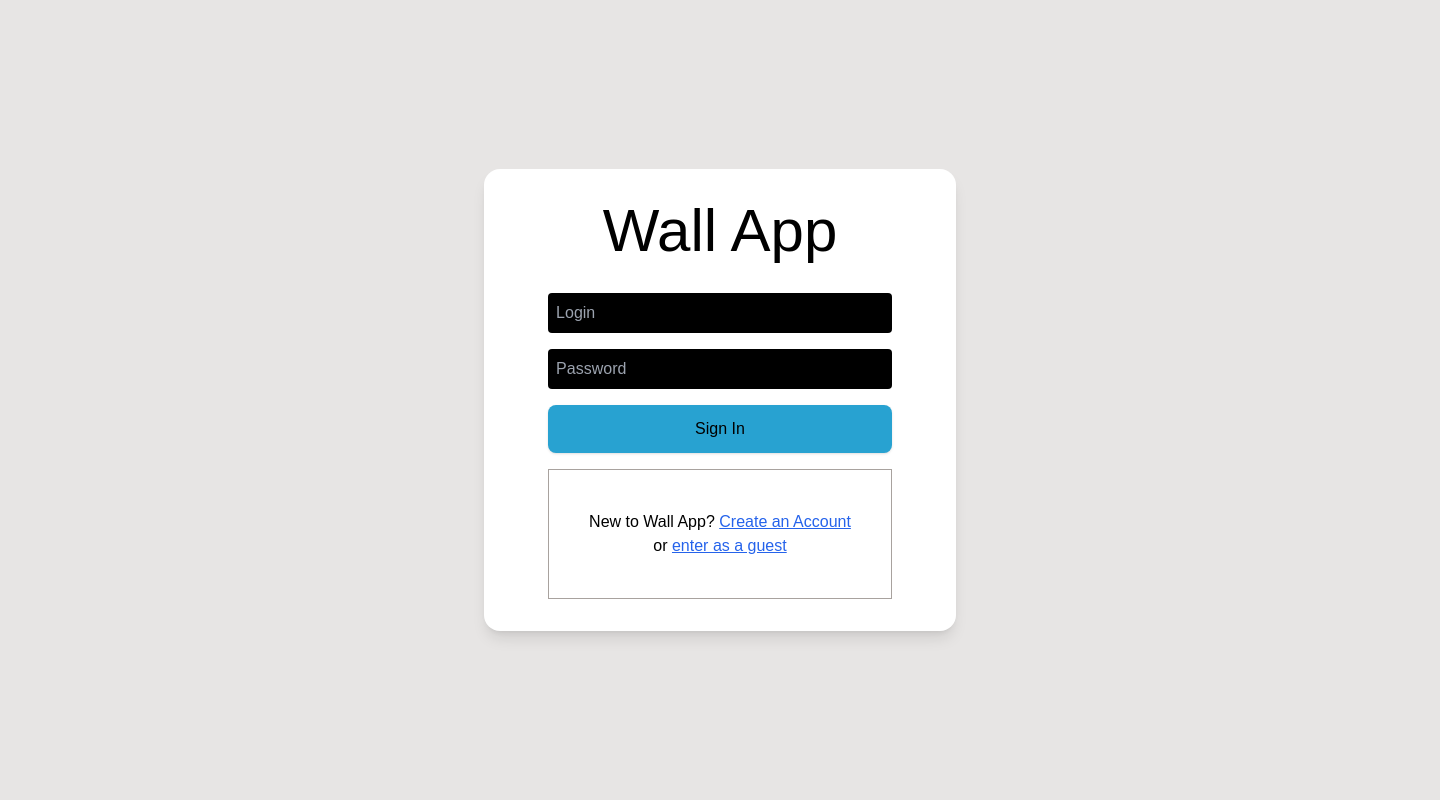
Test case: Wall page › Should be unable to send post if fields are blank
Type "gabs@test.com" into the field with test id "login-email" at (720, 313), box [548,293,892,333]
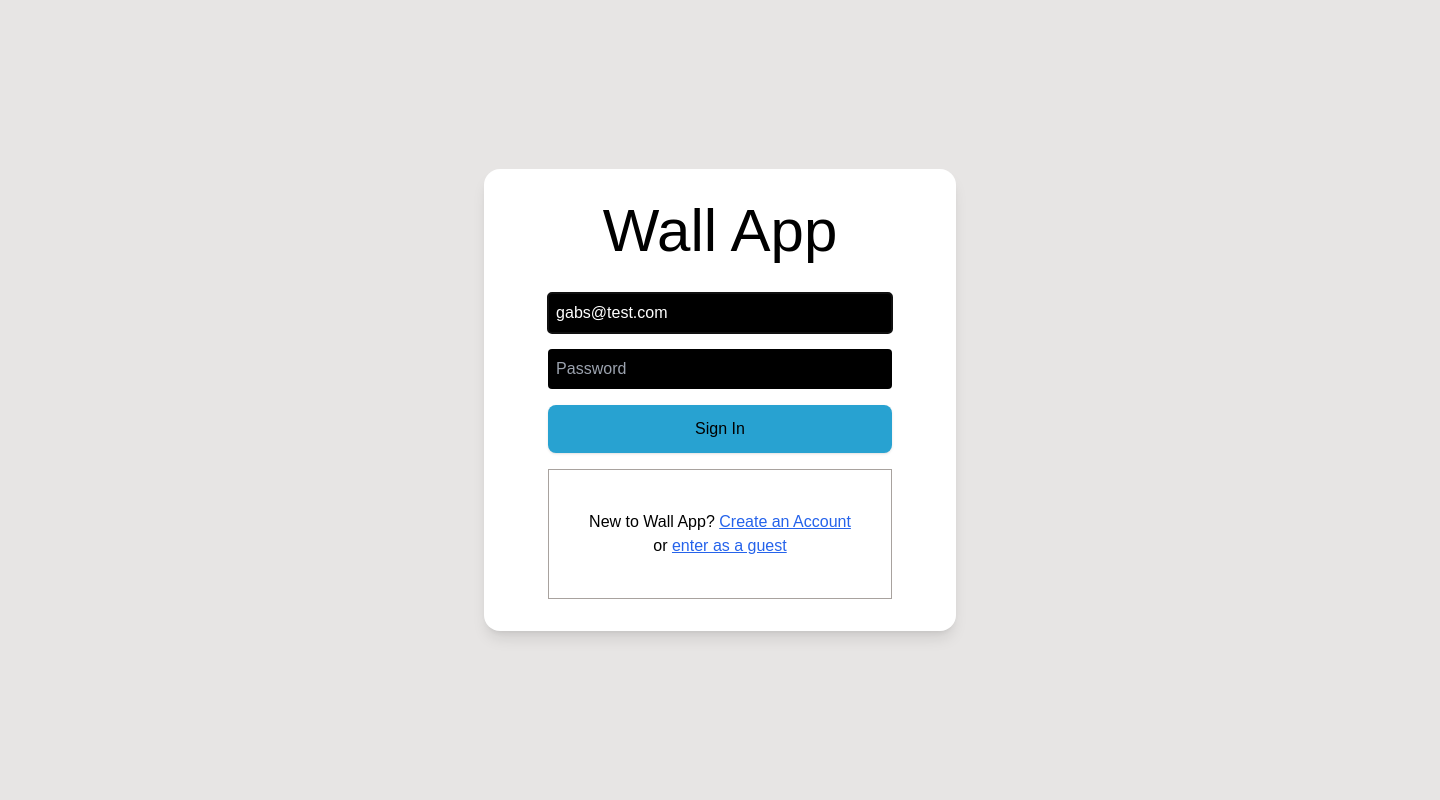
Type "12345678" into the password field with test id "login-password" at (720, 369), box [548,349,892,389]
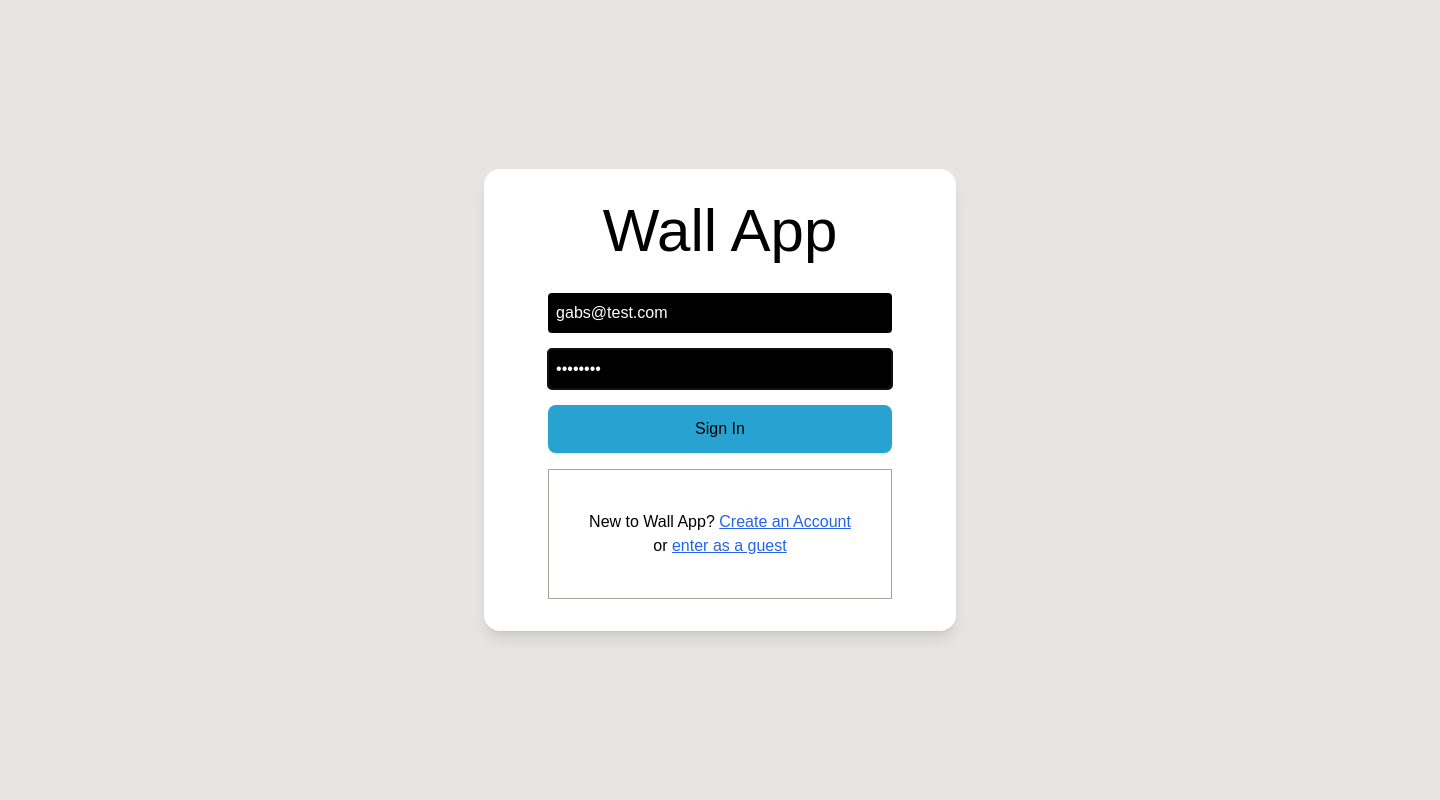
Click the button with test id "login-submit" at (720, 429), box [548,405,892,453]
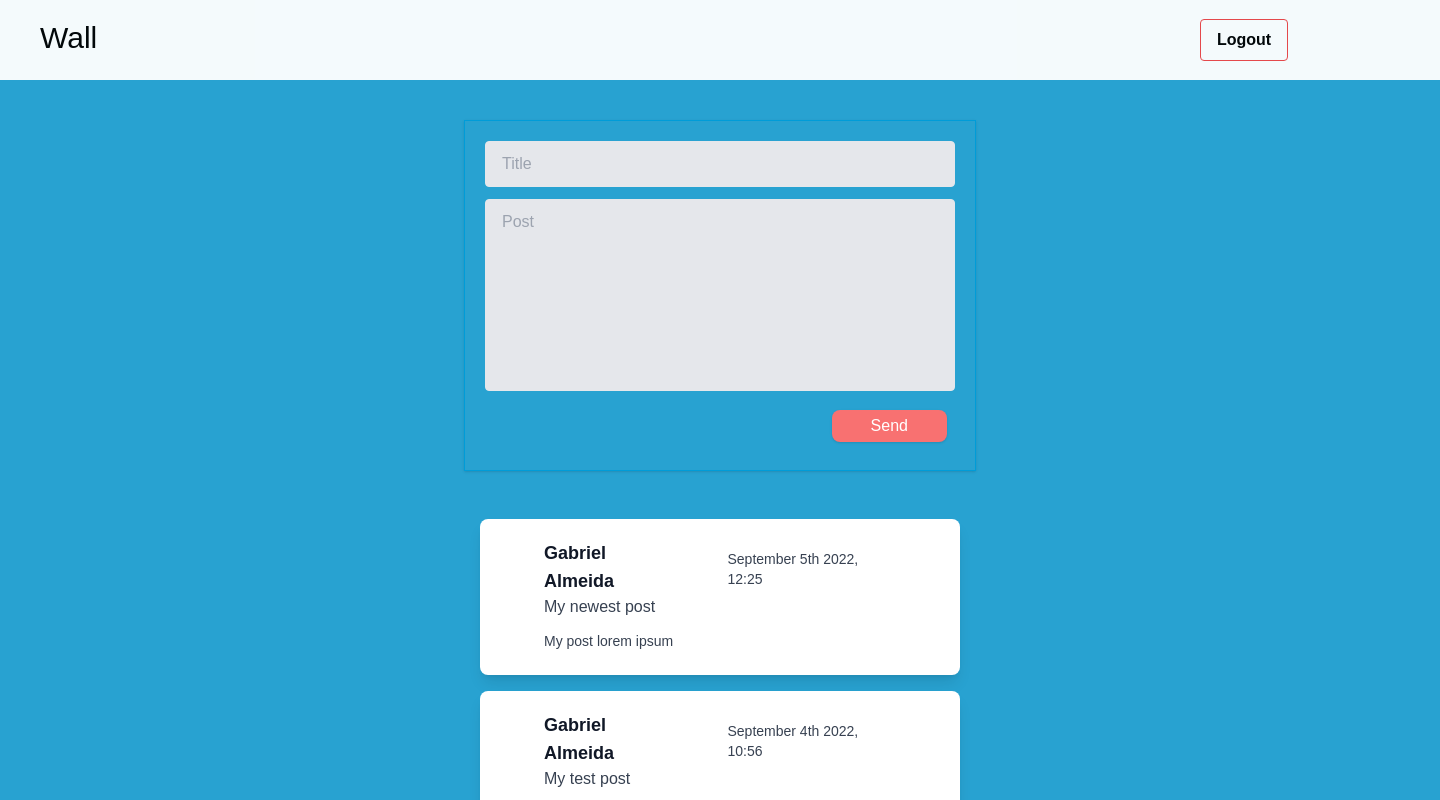
expect the button with test id "post-submit" is disabled: met, box [832,410,948,442]
